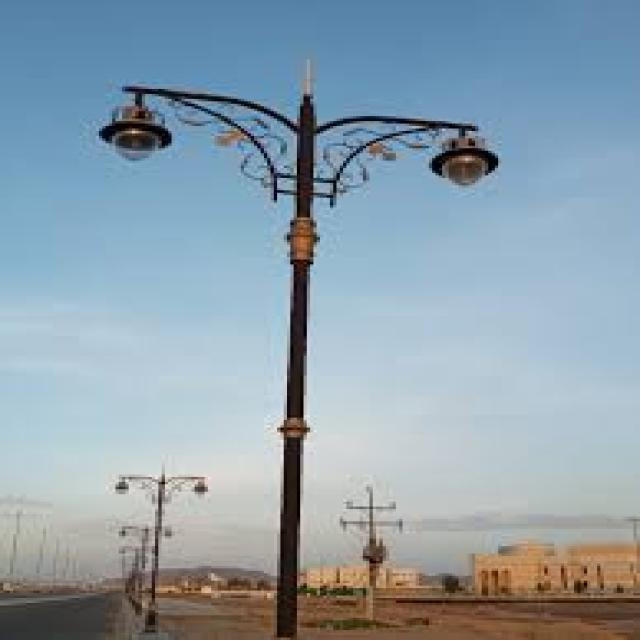Street Light: (99, 59, 501, 640), (112, 465, 205, 635)
